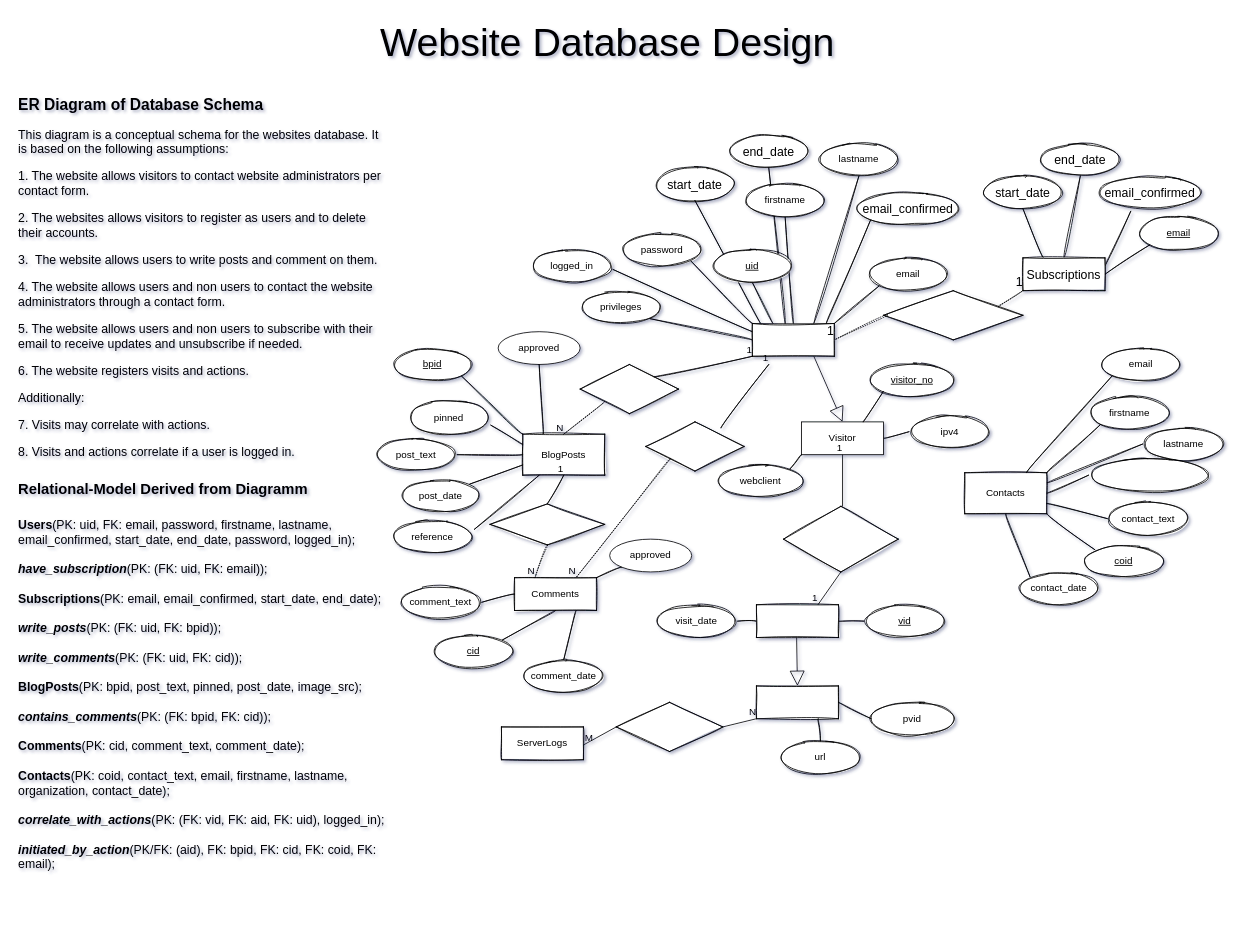
Image size: 1244x941. Some labels were removed from this diagram. The centre of each missing label's shape, as x and y in pixels:
contains_comments: point (547, 524)
corresponds_with: point (669, 727)
have_subscription: point (953, 315)
makes: point (840, 539)
organization: point (1150, 475)
Page_Visits: point (797, 702)
Users: point (793, 339)
Visits: point (797, 621)
write_comments: point (694, 446)
write_posts: point (629, 389)
